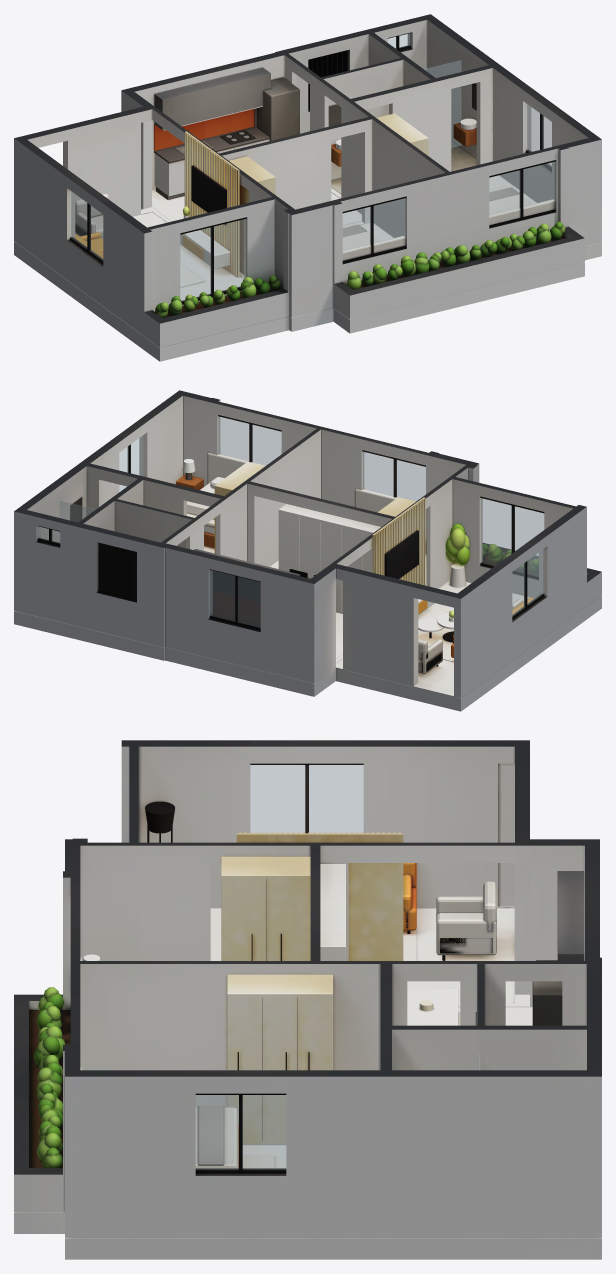
File: interior_B.glb
3 renders of one model, top to bottom at view 1: azimuth 30°, elevation 25°; view 2: azimuth 150°, elevation 25°; view 3: azimuth 270°, elevation 25°, orthographic. The views are drawn at different scales.
Visible parts, largest first — view 1: interior_B, glass_B; view 2: interior_B, glass_B; view 3: interior_B, glass_B.
Boxes of the visible parts, <box> form: interior_B: <box>14,14,601,361</box>; glass_B: <box>71,33,554,301</box>; interior_B: <box>14,390,601,711</box>; glass_B: <box>38,416,543,627</box>; interior_B: <box>14,740,601,1259</box>; glass_B: <box>196,765,479,1169</box>.
Bounding box in the file's own units: 10.52 × 2.77 × 7.78.
2 materials, 1 textured.
